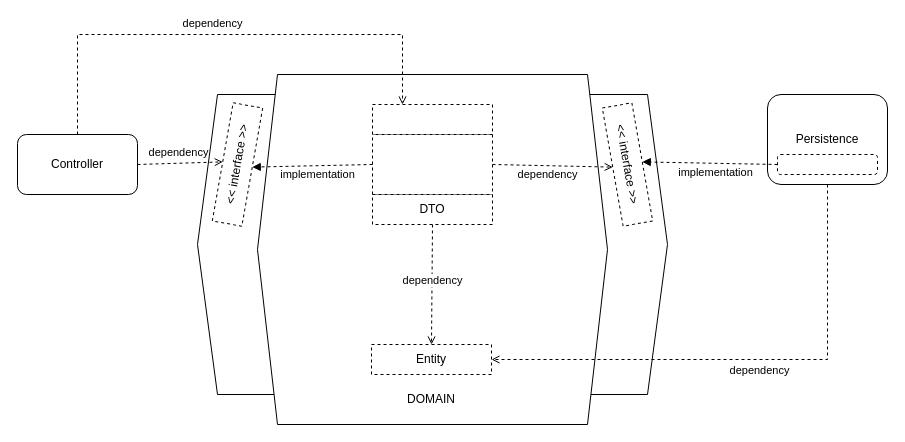
Some shapes in this 905 by 442 pixel diagram are drawn without their labels. The centre of each missing label's shape, as x and y in pixels:
"Repository" goes at [827,164].
"Use Case" goes at [432,164].
"ViewModel" goes at [432,119].
